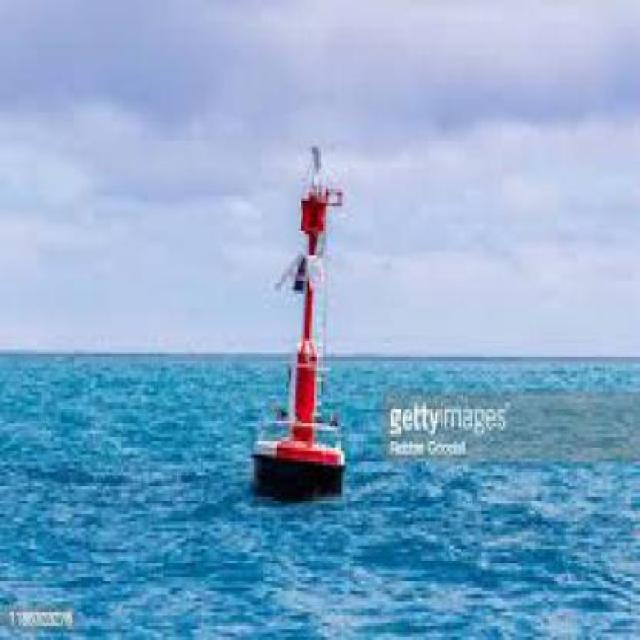buoy: (234, 130, 360, 515)
